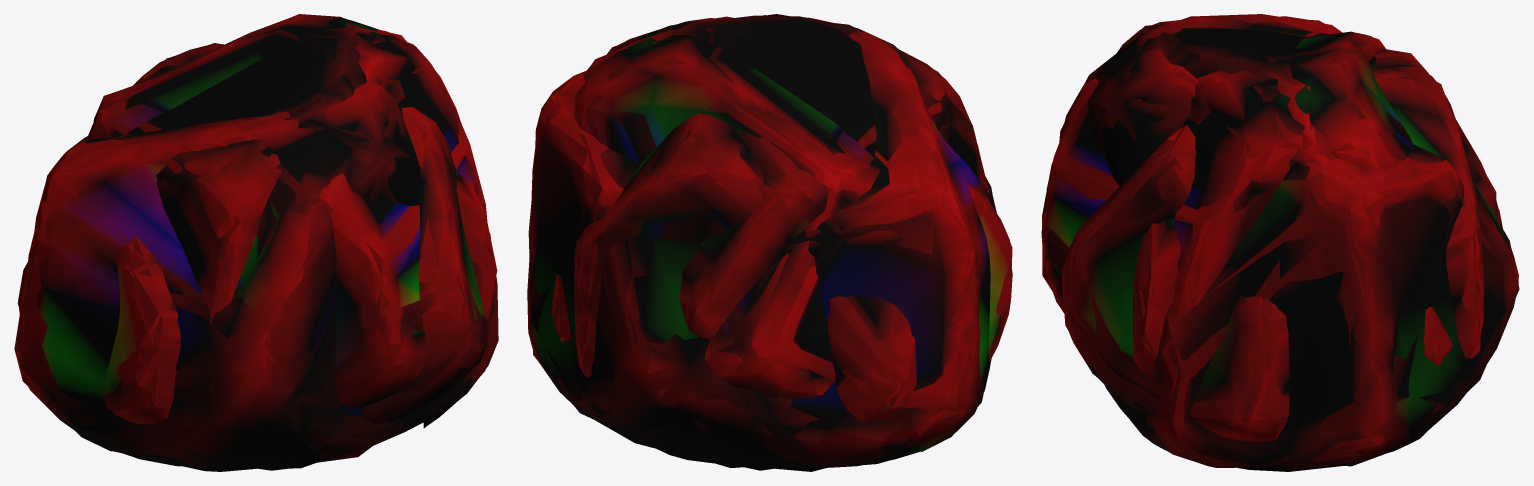
The model's file is boulder.gltf.
3 renders of one model, left to right at view 1: azimuth 30°, elevation 25°; view 2: azimuth 150°, elevation 25°; view 3: azimuth 270°, elevation 25°, orthographic. The views are drawn at different scales.
Parts seen in each view (by area): view 1: lod0, shadow; view 2: lod0, shadow; view 3: lod0, shadow.
Boxes of the visible parts, x1,y1,x2,y2 form: lod0: [15, 17, 497, 471]; shadow: [14, 14, 498, 471]; lod0: [527, 15, 1012, 471]; shadow: [528, 14, 1012, 467]; lod0: [1041, 16, 1518, 471]; shadow: [1042, 14, 1519, 467].
Size of what is drawn, in the model's own units: 2.84 by 2.23 by 2.67.
1 material, 1 textured.
